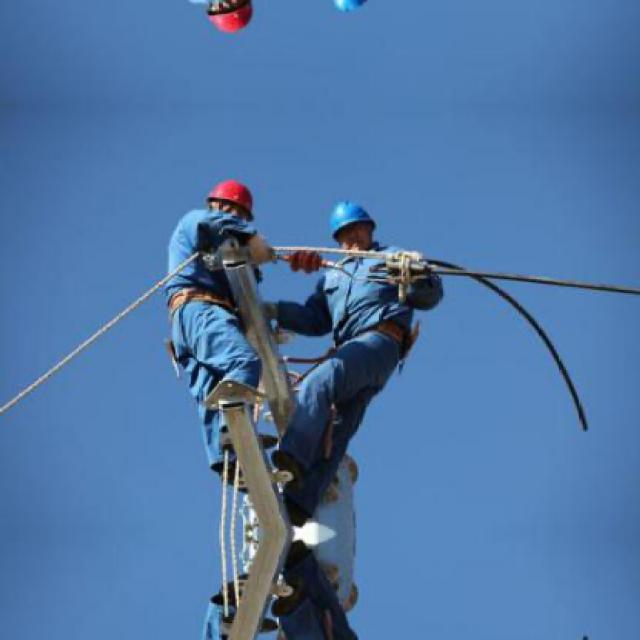helmet: (323, 196, 380, 257), (205, 177, 257, 222), (203, 0, 257, 37), (323, 0, 382, 19)
